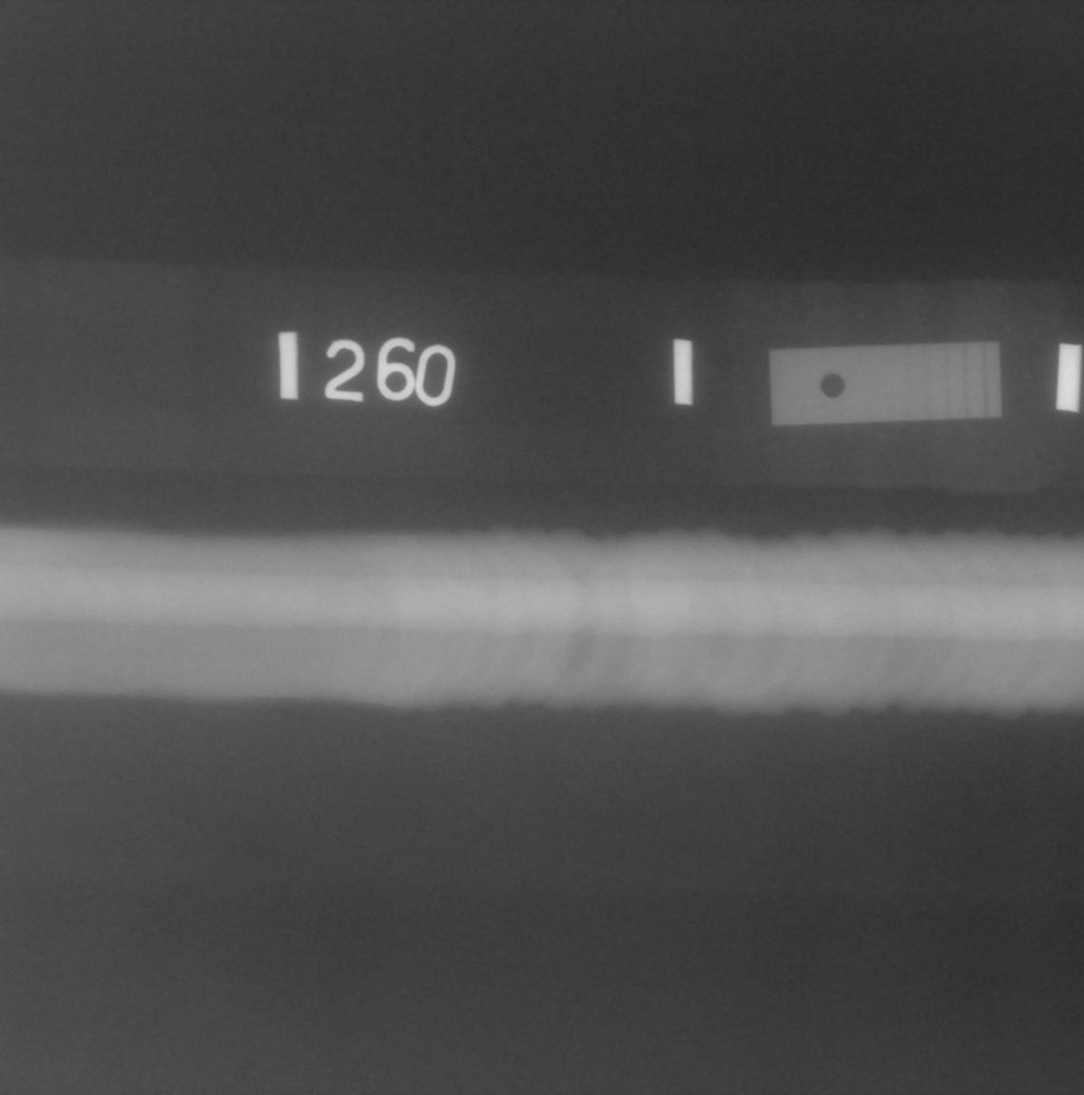Reference Standard 1: (768, 341, 1002, 426)
